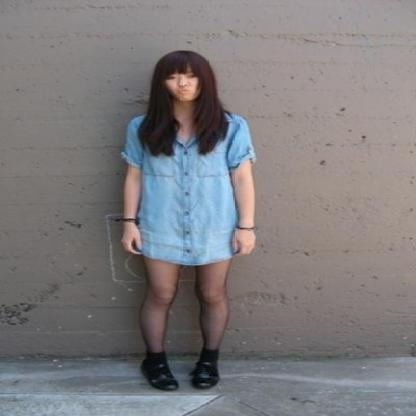dress: (122, 115, 254, 265)
shoe: (140, 347, 218, 390)
